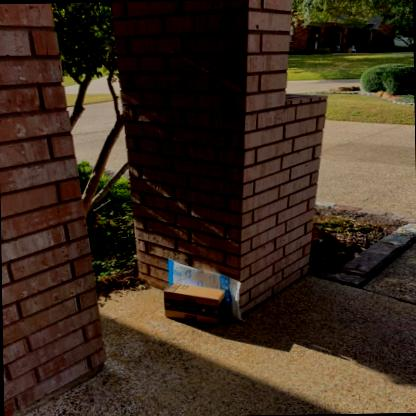box: (163, 286, 226, 325)
envelope: (165, 255, 241, 327)
